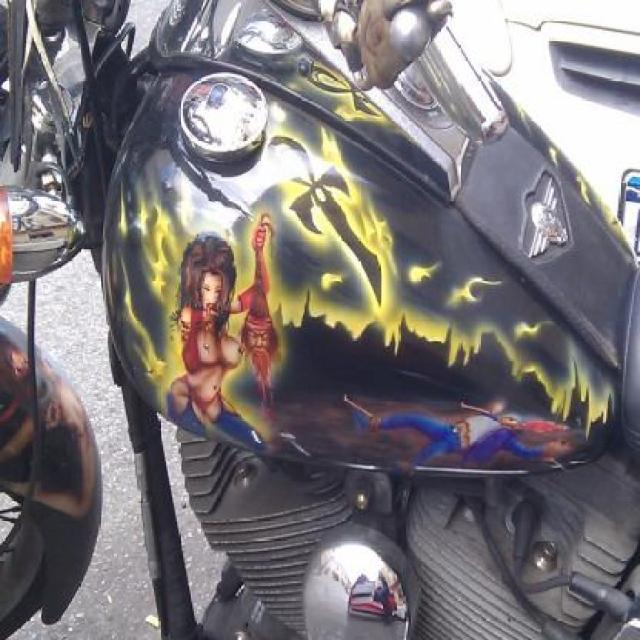bus: (29, 35, 626, 636), (0, 274, 102, 638)
